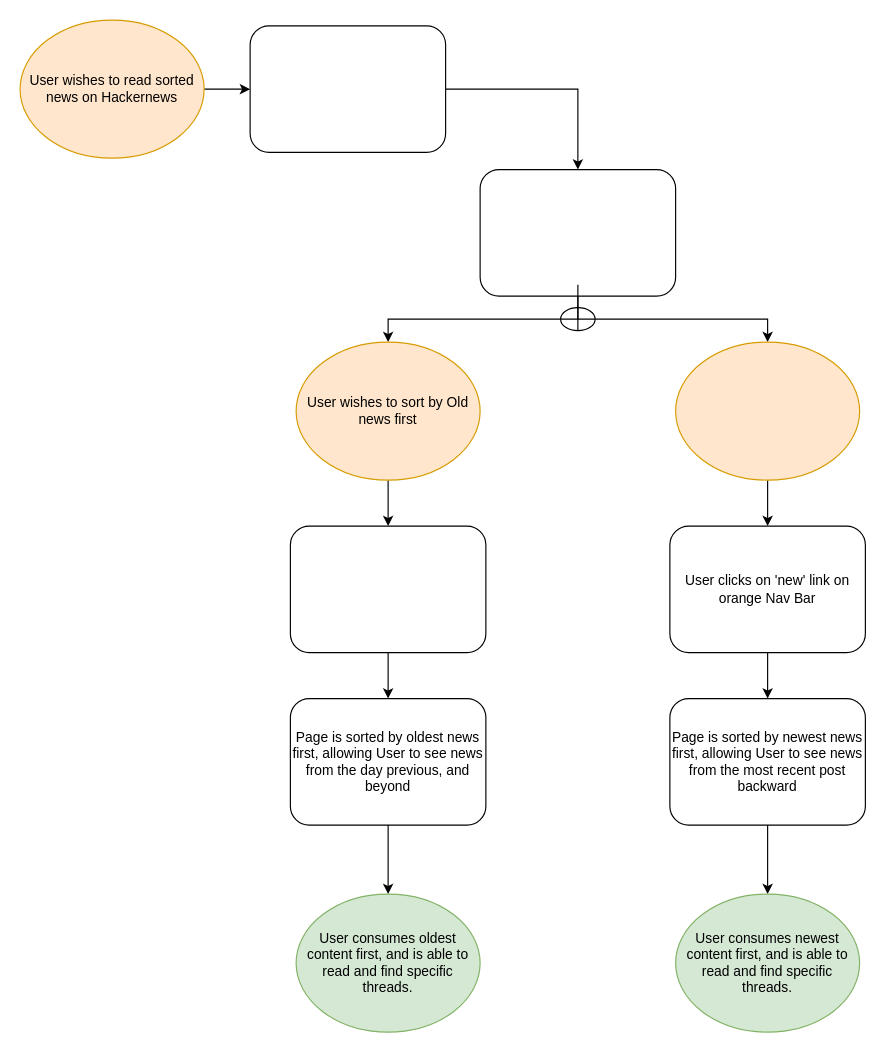
Image size: 886x1052. Some labels were removed from this diagram. The centre of each missing label's shape, as x and y in pixels:
"User clicks on 'past' link on orange Nav Bar" belongs at pixel 387 589.
"User directs to the homepage: http://news.ycombinator.com" belongs at pixel 347 88.
"User directs to the navigation bar on the top of the page" belongs at pixel 577 232.
"User wishes to sort by New news first" belongs at pixel 767 410.
